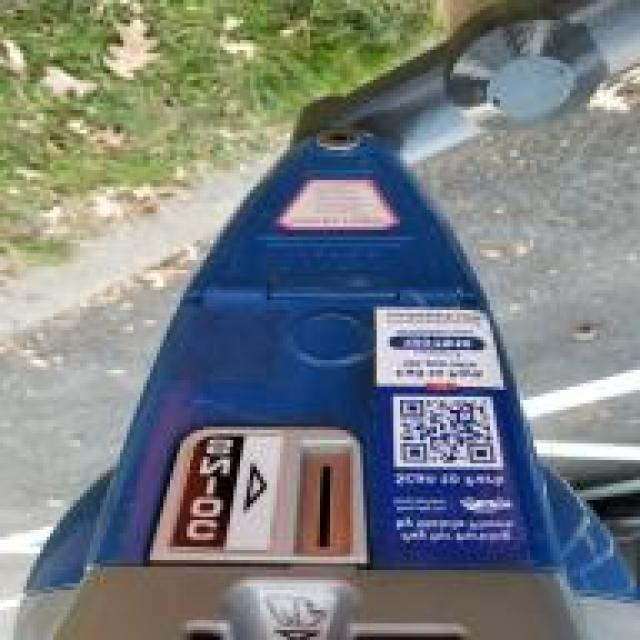qr_code: (399, 399, 494, 464)
